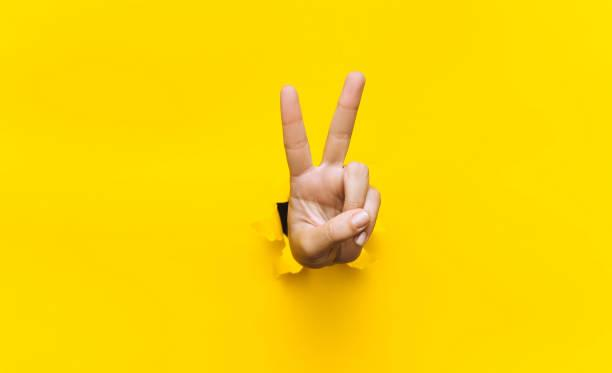peace_sign: (274, 66, 388, 276)
